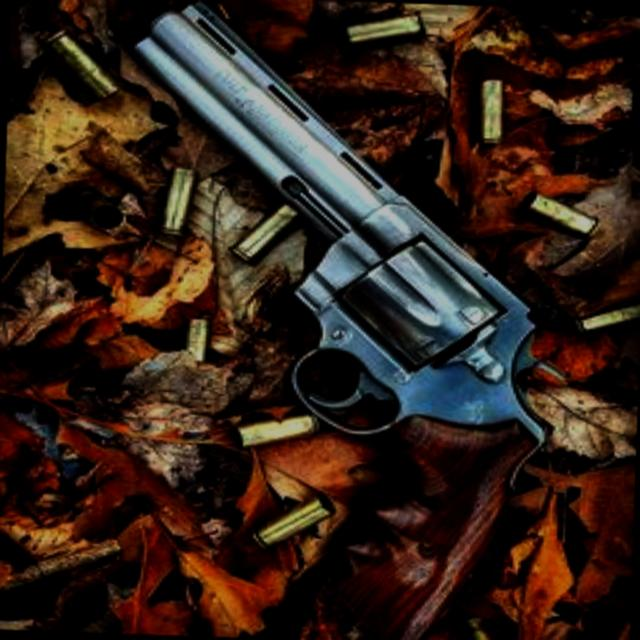revolver: (73, 0, 598, 640)
